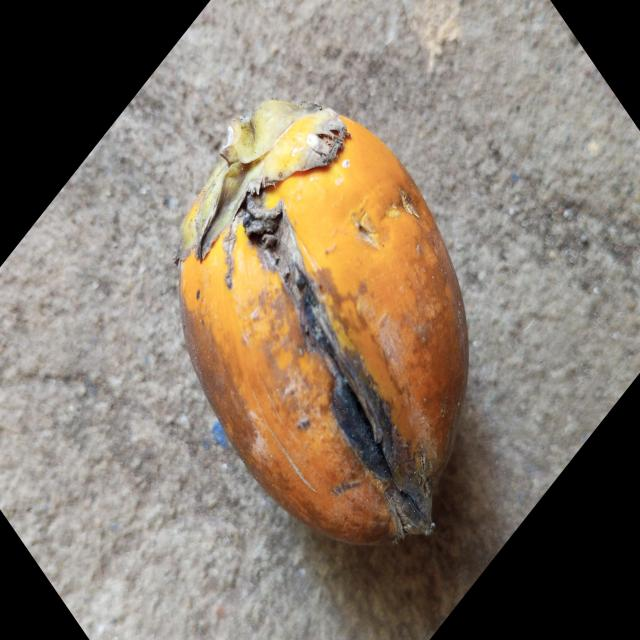damaged: (175, 101, 468, 543)
